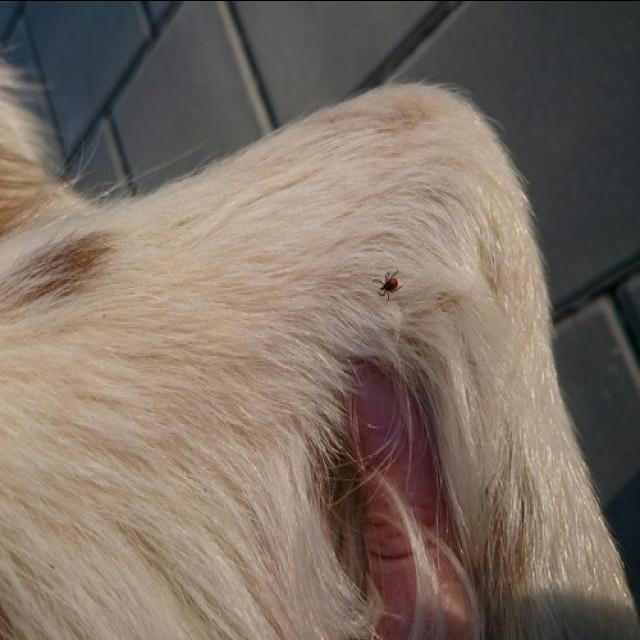Ixodes Ricinus-F: (374, 266, 406, 300)
